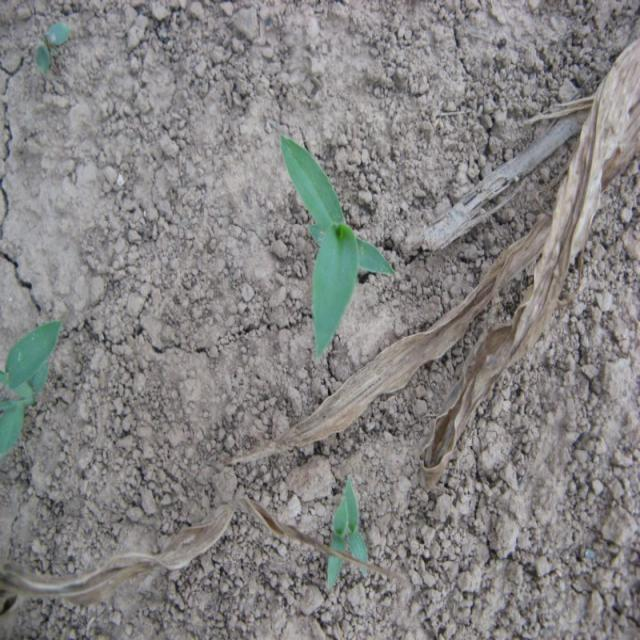bg: (278, 135, 399, 360)
